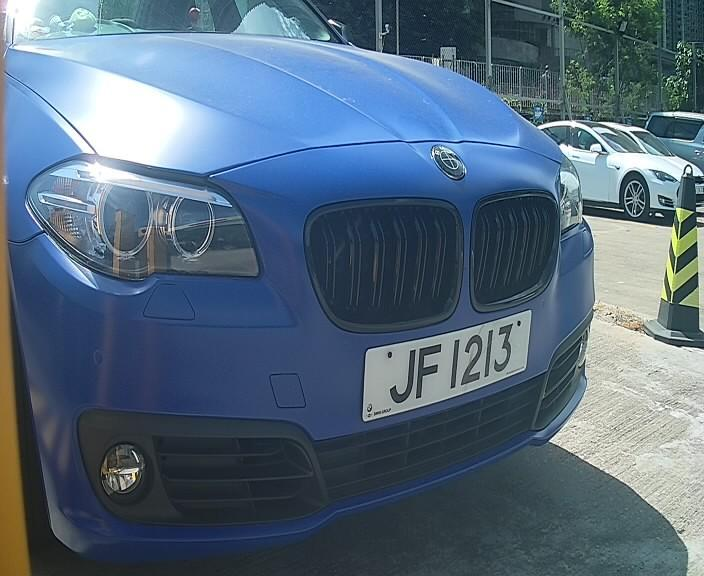privatecar: (13, 11, 607, 535)
